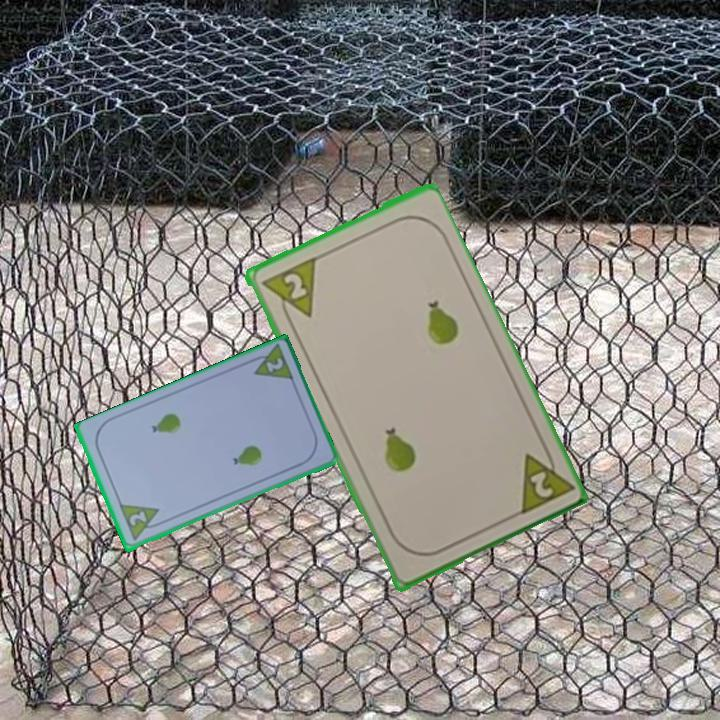2p: (513, 440, 575, 518), (256, 253, 318, 329), (244, 342, 297, 385), (125, 508, 149, 529)
